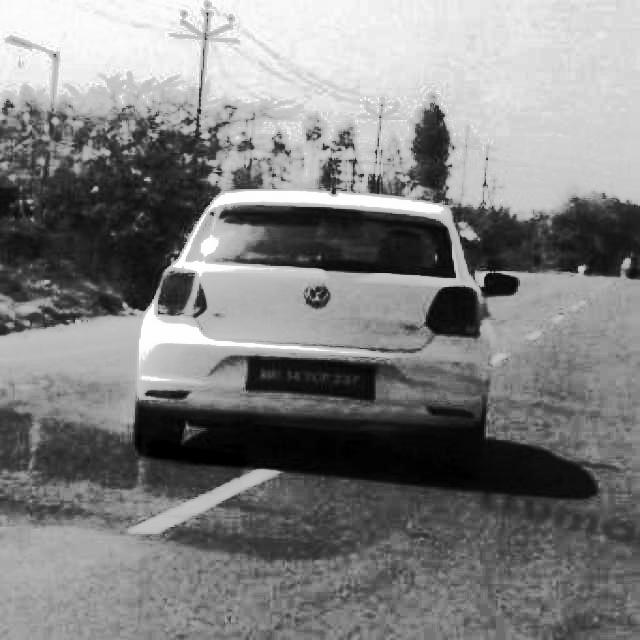Car: (115, 182, 527, 483)
